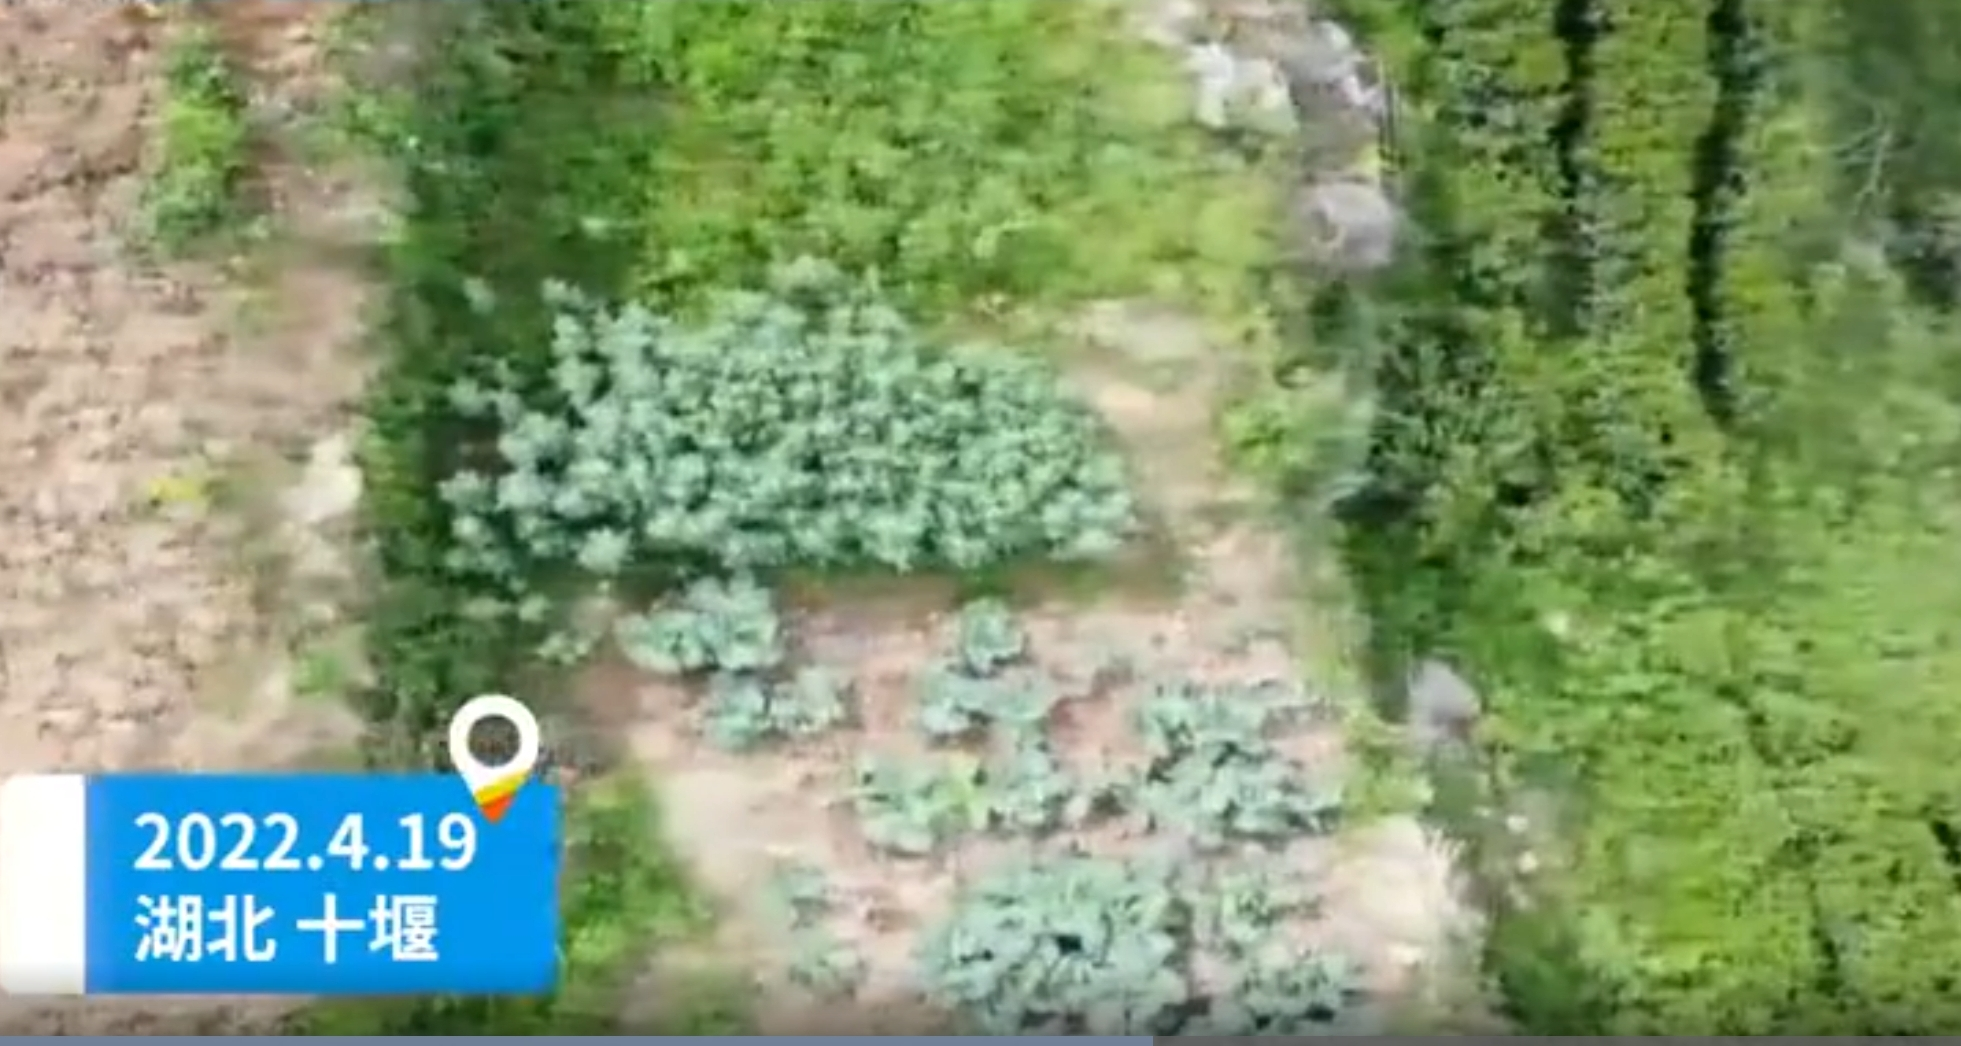Poppy: (422, 249, 1176, 577), (860, 582, 1377, 870), (910, 857, 1364, 1027), (580, 564, 874, 763)
